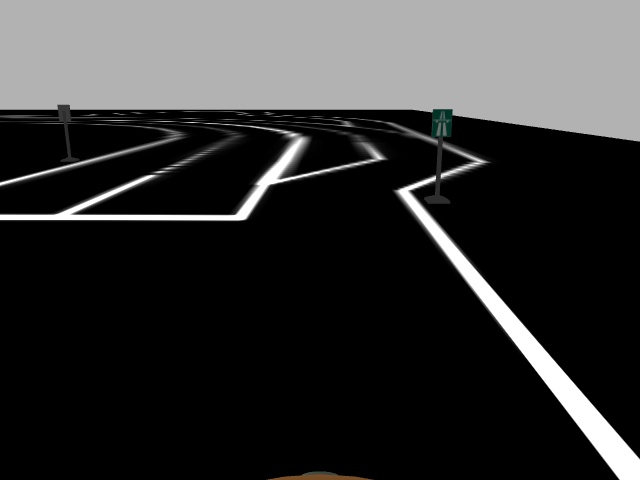enter_highway: (430, 109, 455, 139)
